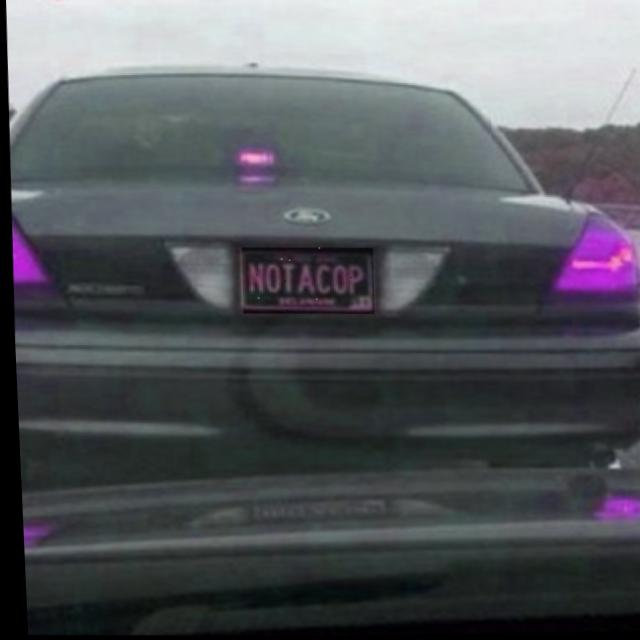license_plate: (238, 247, 372, 316)
